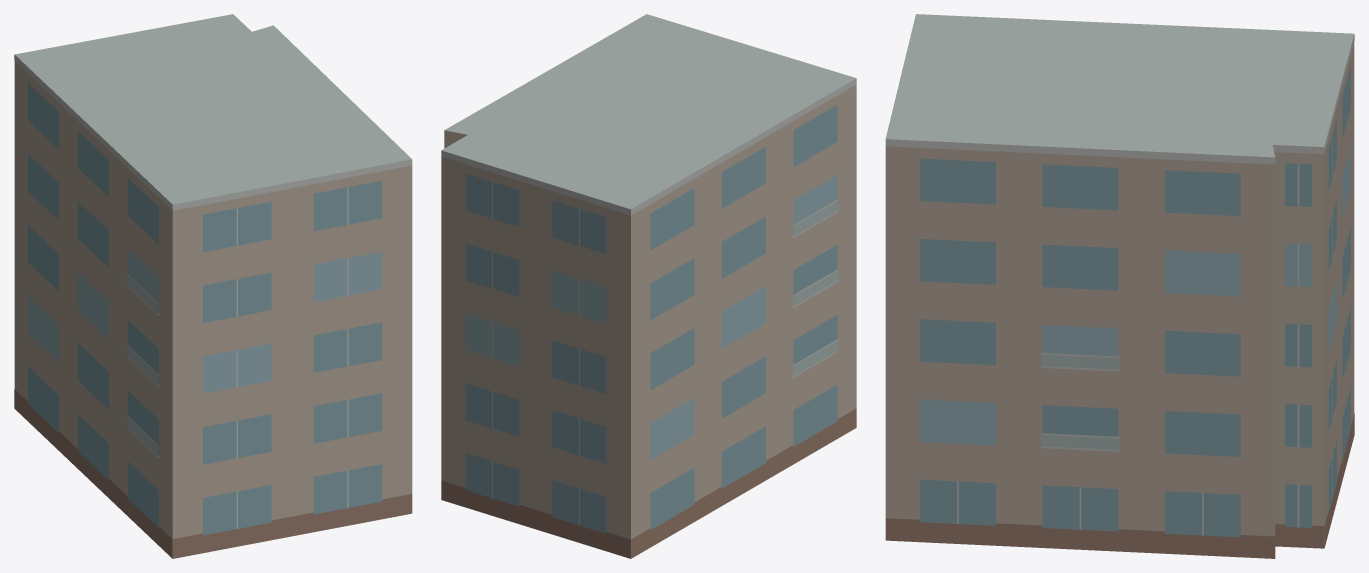
File: survey-upis-32636883.glb
The picture shows the model from 3 angles, left to right: view 1: azimuth 30°, elevation 25°; view 2: azimuth 150°, elevation 25°; view 3: azimuth 270°, elevation 25°; orthographic projection. The views are drawn at different scales.
Visible parts, largest first — view 1: survey-upis-32636883.tmp; view 2: survey-upis-32636883.tmp; view 3: survey-upis-32636883.tmp.
Part boxes in pixels (x1,y1,x2,y2): survey-upis-32636883.tmp: (14, 14, 412, 558); survey-upis-32636883.tmp: (441, 14, 856, 558); survey-upis-32636883.tmp: (885, 14, 1354, 558).
Size of the model in its own units: 10.59 by 13.8 by 14.62.
